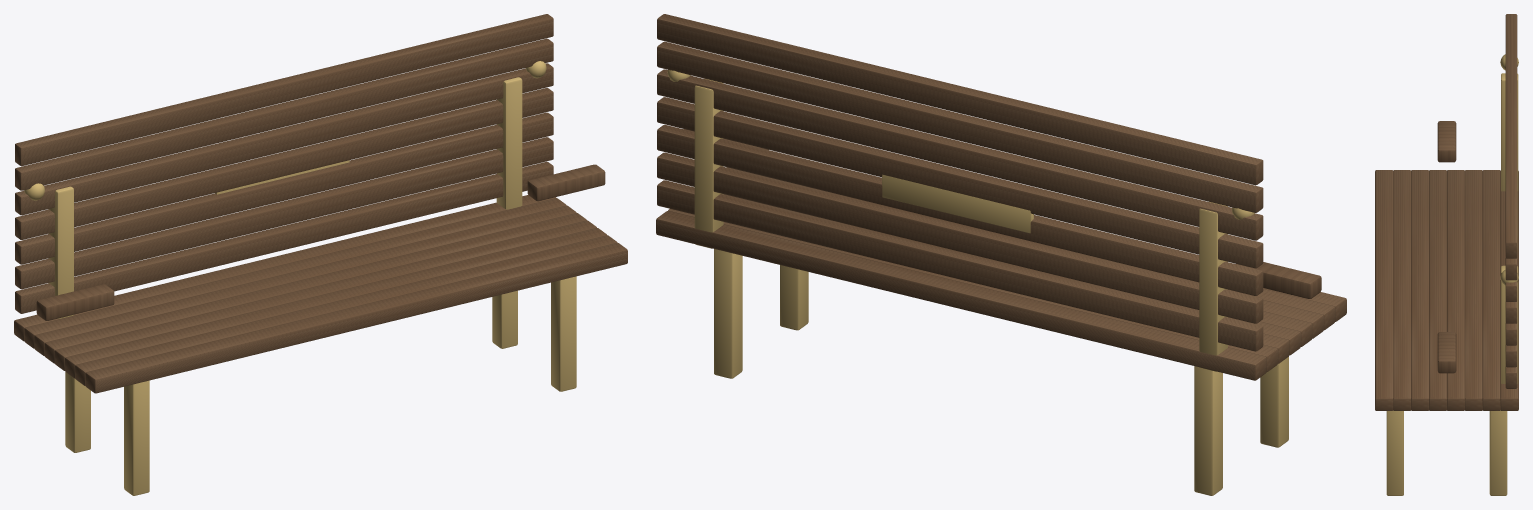
The model's file is bench_country_club.glb.
3 renders of one model, left to right at view 1: azimuth 30°, elevation 25°; view 2: azimuth 150°, elevation 25°; view 3: azimuth 270°, elevation 25°, orthographic. The views are drawn at different scales.
Parts seen in each view (by area): view 1: Bench_BackSlat_7, Bench_BackSlat_6, Bench_SeatSlat_1, Bench_BackSlat_2, Bench_BackSlat_4, Bench_BackSlat_5, Bench_BackSlat_3, Bench_BackSlat_1, Bench_SeatSlat_2, Bench_SeatSlat_5, Bench_SeatSlat_4, Bench_SeatSlat_6 (+11 smaller); view 2: Bench_BackSlat_6, Bench_BackSlat_7, Bench_SeatSlat_8, Bench_BackSlat_5, Bench_BackSlat_2, Bench_BackSlat_1, Bench_BackSlat_4, Bench_BackSlat_3, Bench_Leg_2_2, Bench_Leg_1_2, Bench_MemorialPlaque, Bench_BackPost_R (+8 smaller); view 3: Bench_SeatSlat_1, Bench_SeatSlat_7, Bench_SeatSlat_2, Bench_SeatSlat_3, Bench_SeatSlat_6, Bench_SeatSlat_4, Bench_SeatSlat_5, Bench_BackSlat_7, Bench_Leg_2_2, Bench_Leg_2_1, Bench_SeatSlat_8, Bench_BackPost_L (+9 smaller).
Boxes of the visible parts, x1,y1,x2,y2 form: Bench_BackSlat_7: [15, 14, 553, 166]; Bench_BackSlat_6: [15, 38, 553, 190]; Bench_SeatSlat_1: [85, 242, 627, 393]; Bench_BackSlat_2: [15, 137, 553, 289]; Bench_BackSlat_4: [15, 88, 553, 239]; Bench_BackSlat_5: [15, 63, 553, 215]; Bench_BackSlat_3: [15, 112, 553, 264]; Bench_BackSlat_1: [15, 161, 553, 313]; Bench_SeatSlat_2: [75, 235, 617, 385]; Bench_SeatSlat_5: [44, 213, 586, 363]; Bench_SeatSlat_4: [54, 220, 596, 370]; Bench_SeatSlat_6: [34, 205, 576, 355]; Bench_BackSlat_6: [657, 41, 1263, 212]; Bench_BackSlat_7: [657, 14, 1263, 185]; Bench_SeatSlat_8: [656, 211, 1266, 380]; Bench_BackSlat_5: [657, 69, 1263, 240]; Bench_BackSlat_2: [657, 152, 1263, 323]; Bench_BackSlat_1: [657, 180, 1263, 351]; Bench_BackSlat_4: [657, 97, 1263, 268]; Bench_BackSlat_3: [657, 125, 1263, 295]; Bench_Leg_2_2: [714, 249, 742, 378]; Bench_Leg_1_2: [1194, 366, 1222, 495]; Bench_MemorialPlaque: [882, 174, 1033, 233]; Bench_BackPost_R: [694, 78, 723, 248]; Bench_SeatSlat_1: [1375, 170, 1393, 410]; Bench_SeatSlat_7: [1482, 170, 1500, 410]; Bench_SeatSlat_2: [1393, 170, 1410, 410]; Bench_SeatSlat_3: [1411, 170, 1428, 410]; Bench_SeatSlat_6: [1465, 170, 1482, 410]; Bench_SeatSlat_4: [1429, 170, 1446, 410]; Bench_SeatSlat_5: [1447, 170, 1464, 410]; Bench_BackSlat_7: [1505, 14, 1517, 258]; Bench_Leg_2_2: [1489, 410, 1507, 495]; Bench_Leg_2_1: [1386, 410, 1403, 495]; Bench_SeatSlat_8: [1500, 171, 1518, 410]; Bench_BackPost_L: [1501, 73, 1518, 191].
Size of what is drawn, in the model's own units: 2.1 by 1.11 by 0.5307.
Materials: 2 (1 with a texture image).
